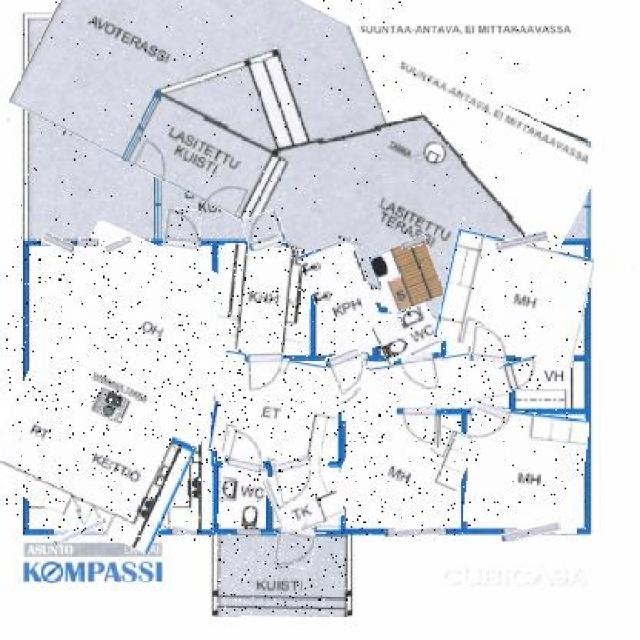door: (395, 408, 440, 448), (329, 351, 369, 394), (275, 457, 314, 501), (243, 211, 285, 251), (396, 354, 444, 388), (276, 529, 316, 568), (469, 403, 506, 445), (164, 209, 202, 249), (228, 431, 266, 471), (246, 352, 283, 392), (502, 357, 542, 391), (471, 326, 506, 363)
window: (54, 523, 106, 539), (503, 524, 562, 538), (495, 234, 548, 249), (385, 528, 446, 537), (41, 235, 74, 251), (105, 238, 132, 251), (402, 237, 426, 248), (339, 236, 363, 247), (77, 238, 98, 248), (172, 528, 197, 535)
zone: (18, 0, 594, 297), (6, 234, 240, 541), (440, 237, 589, 361), (338, 404, 468, 536), (466, 409, 586, 531), (212, 357, 342, 468), (215, 532, 348, 617), (215, 246, 312, 354), (337, 354, 508, 414), (308, 240, 382, 357), (268, 463, 342, 534), (374, 240, 440, 311), (375, 309, 440, 362), (219, 466, 266, 528)
